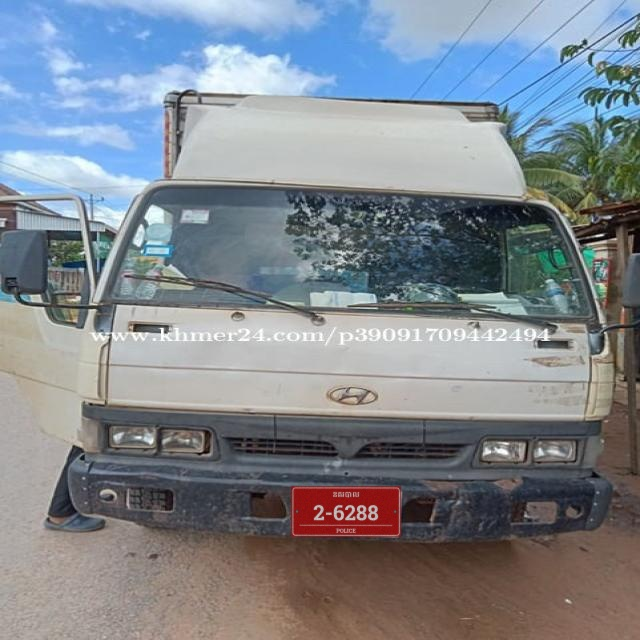Plate Number: (291, 487, 402, 538)
